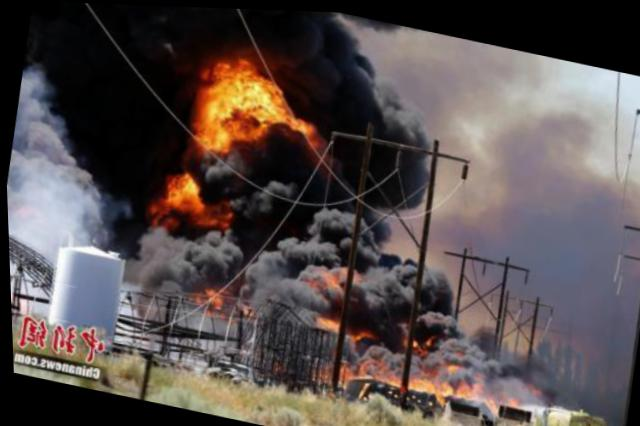fire: (212, 65, 286, 124), (193, 92, 233, 150), (163, 168, 203, 209), (407, 371, 458, 396), (224, 115, 264, 143), (279, 112, 318, 131)
